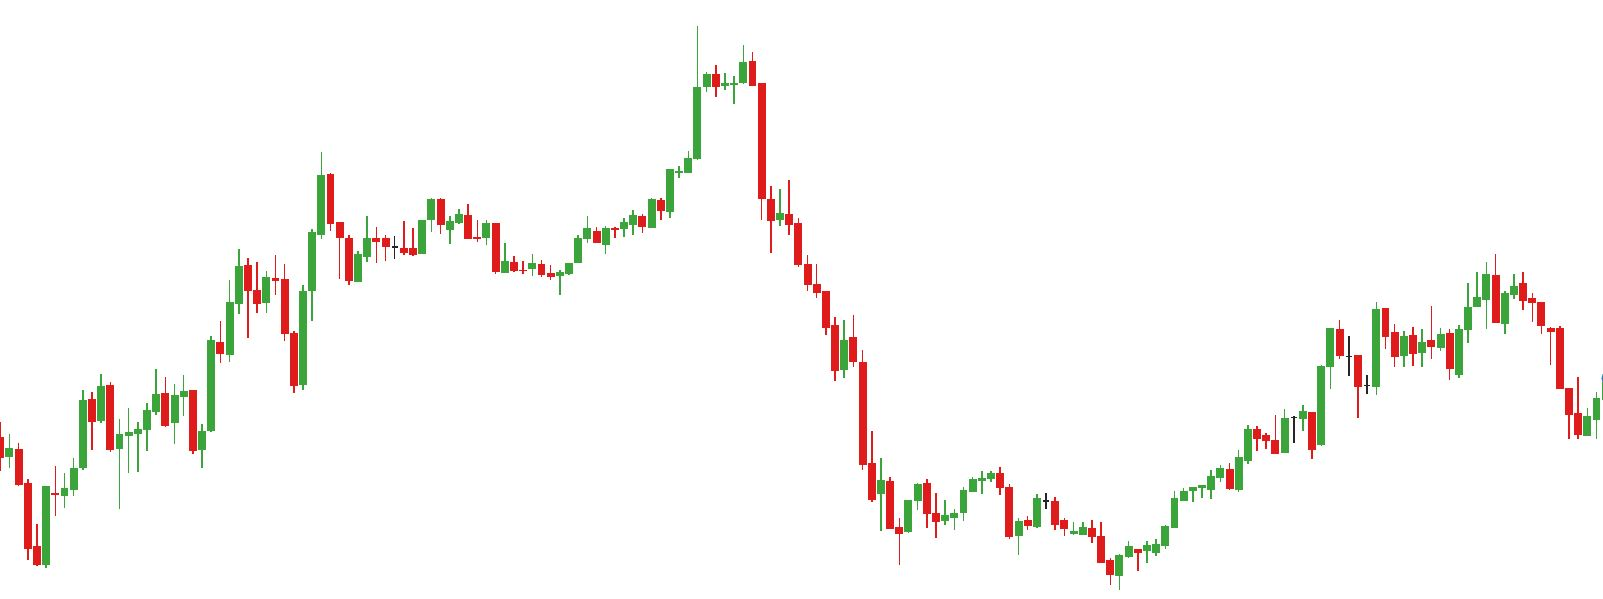buy: (218, 286, 309, 398)
sell: (1369, 252, 1505, 355)
